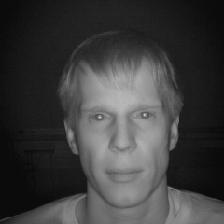normal: (56, 35, 182, 222)
